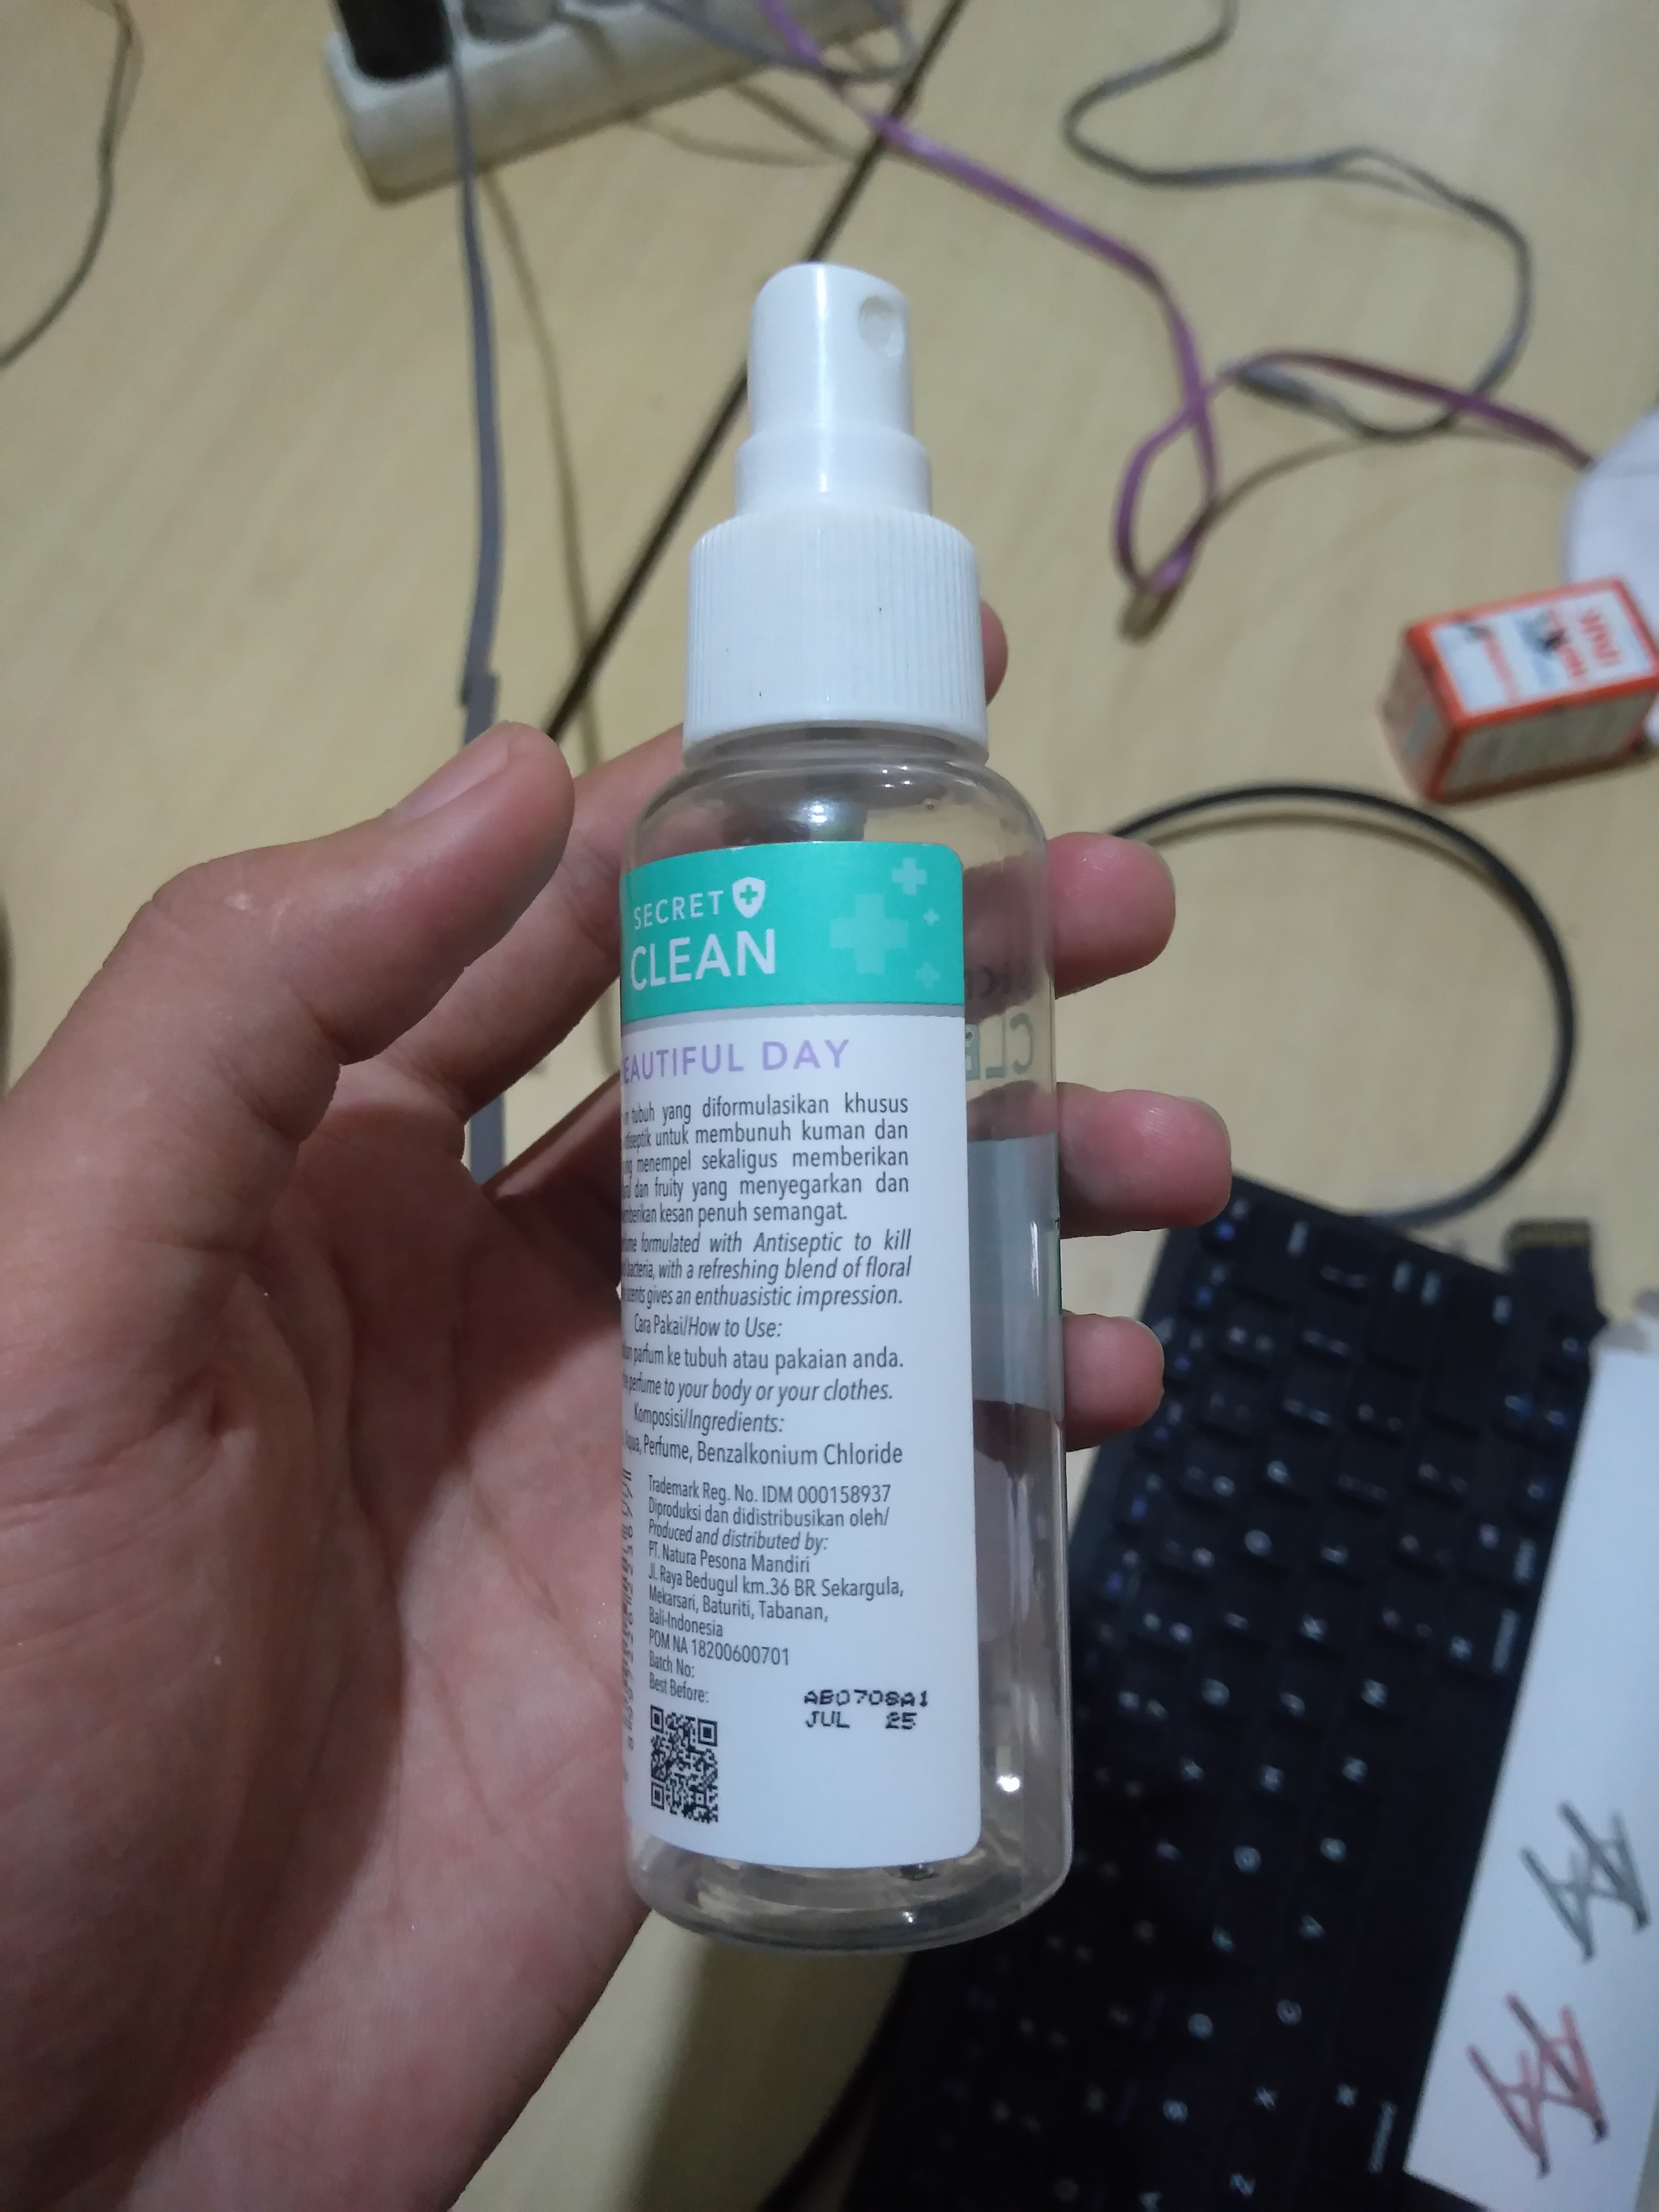hand sanitizer: (565, 207, 1094, 1977)
